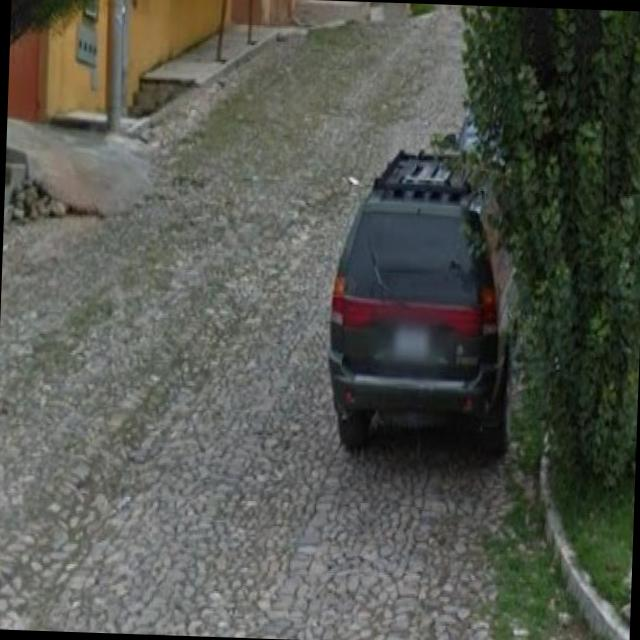car: (327, 148, 509, 471)
